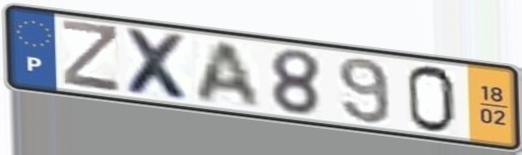0: (404, 63, 461, 134)
8: (266, 47, 325, 118)
9: (333, 55, 393, 126)
A: (192, 39, 265, 110)
X: (121, 25, 196, 106)
Z: (60, 17, 123, 96)
